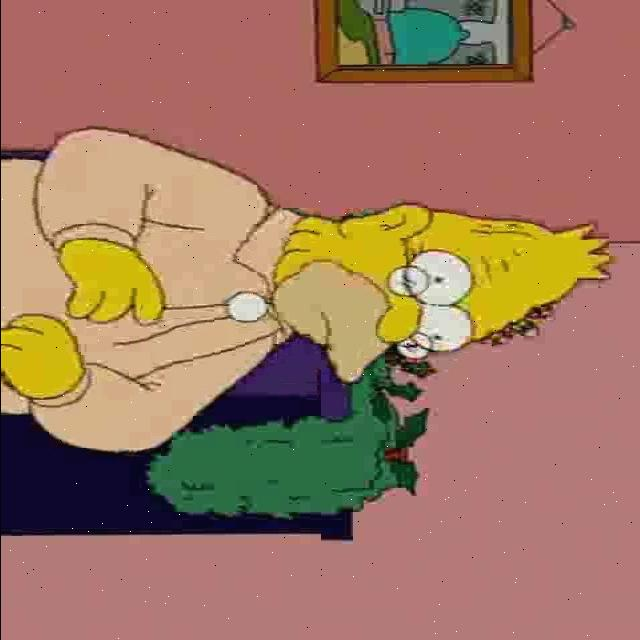Abraham Grampa Simpson: (268, 201, 614, 387)
